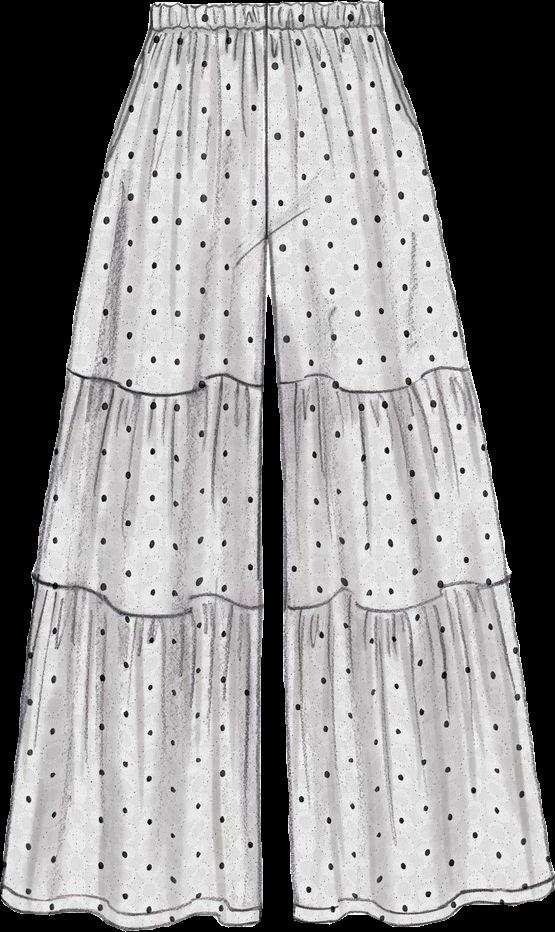Hemline: (290, 882, 554, 930), (0, 886, 272, 931)
Pantleg: (265, 0, 554, 926), (1, 1, 267, 927)
Waistline: (277, 566, 516, 616), (24, 571, 267, 620), (63, 362, 264, 402), (274, 361, 471, 396), (145, 16, 384, 37), (151, 0, 384, 15)
